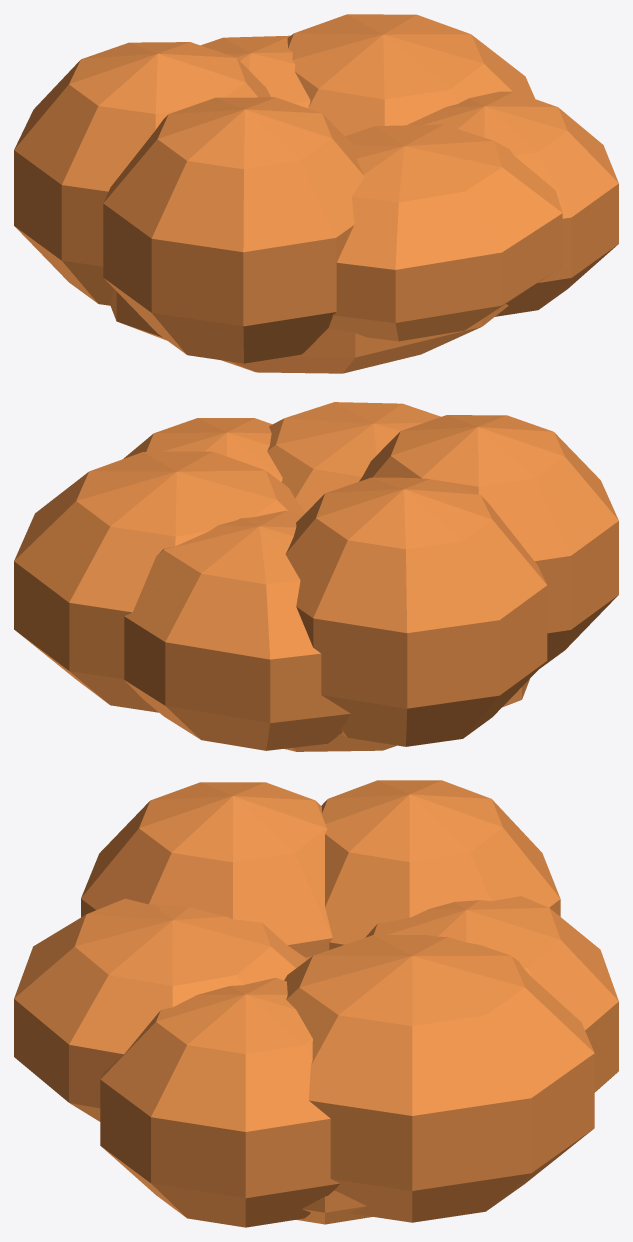
Rendered from coral_002a_rounded.glb.
3 views of the same model, one above another, from view 1: azimuth 30°, elevation 25°; view 2: azimuth 150°, elevation 25°; view 3: azimuth 270°, elevation 25° (orthographic). The views are drawn at different scales.
Parts seen in each view (by area): view 1: coral_002a_rounded__mesh; view 2: coral_002a_rounded__mesh; view 3: coral_002a_rounded__mesh.
Part boxes in pixels (x1,y1,x2,y2): coral_002a_rounded__mesh: (14, 14, 618, 373); coral_002a_rounded__mesh: (14, 402, 618, 751); coral_002a_rounded__mesh: (14, 780, 618, 1227).
Size of the model in its own units: 0.8486 by 0.4783 by 0.8263.
